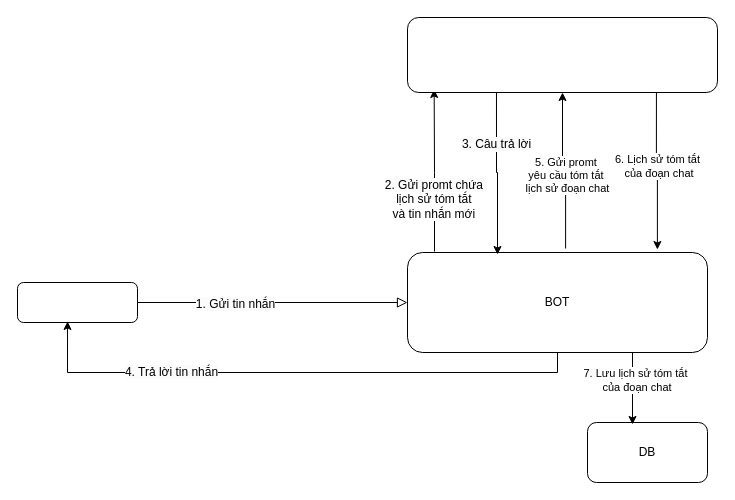
Some shapes in this 735 by 500 pixel diagram are drawn without their labels. Each missing label, with the centre of its shape:
"GEMINI" goes at point (562, 54).
"User" goes at point (77, 302).
